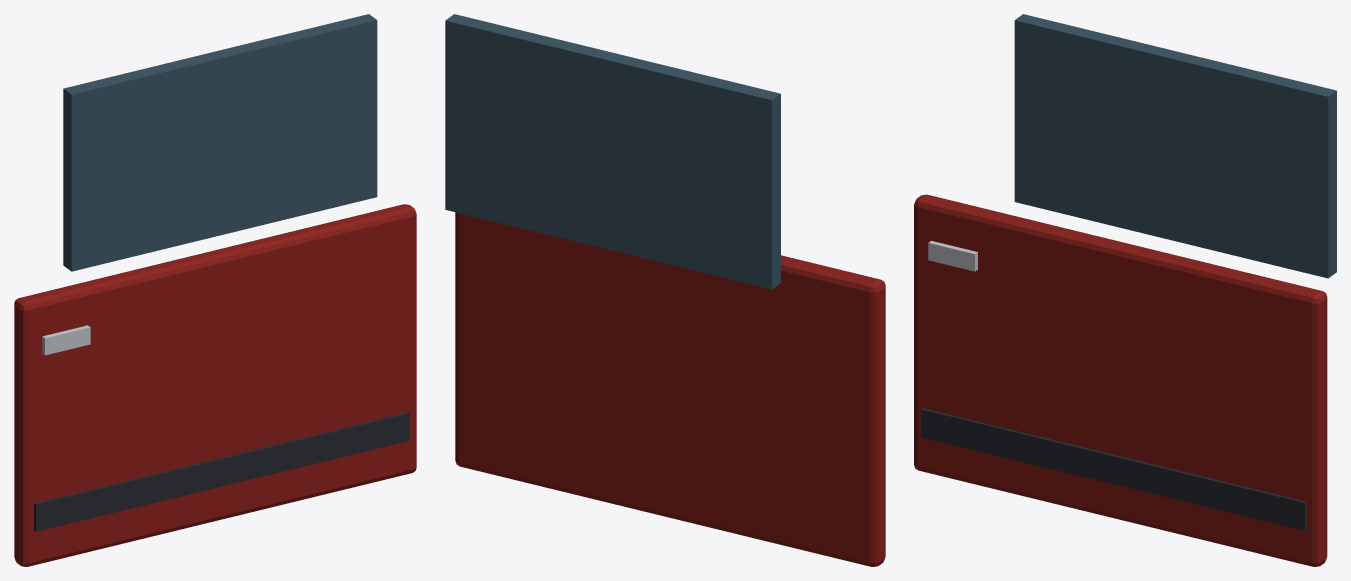
The model's file is door_r.obj.
3 renders of one model, left to right at view 1: azimuth 30°, elevation 25°; view 2: azimuth 150°, elevation 25°; view 3: azimuth 330°, elevation 25°, orthographic. The views are drawn at different scales.
Parts seen in each view (by area): view 1: Cube; view 2: Cube; view 3: Cube.
Boxes of the visible parts, x1,y1,x2,y2 form: Cube: [14, 14, 416, 566]; Cube: [445, 14, 885, 566]; Cube: [914, 14, 1336, 566].
Bounding box in the file's own units: 1.22 × 1.29 × 0.1975.
